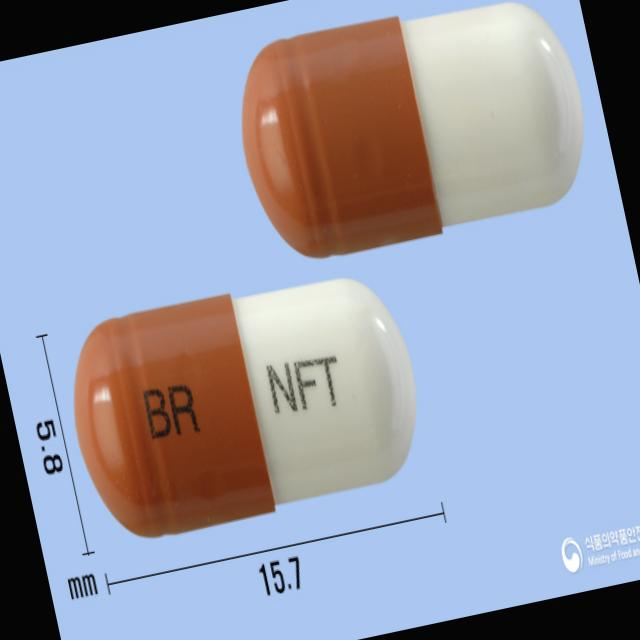Boryung Nitrofurantoin: (52, 253, 440, 555)
